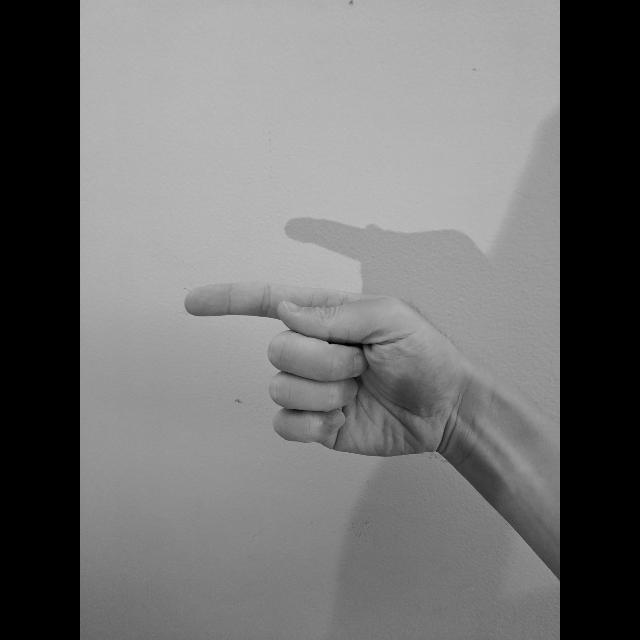G: (179, 278, 473, 462)
